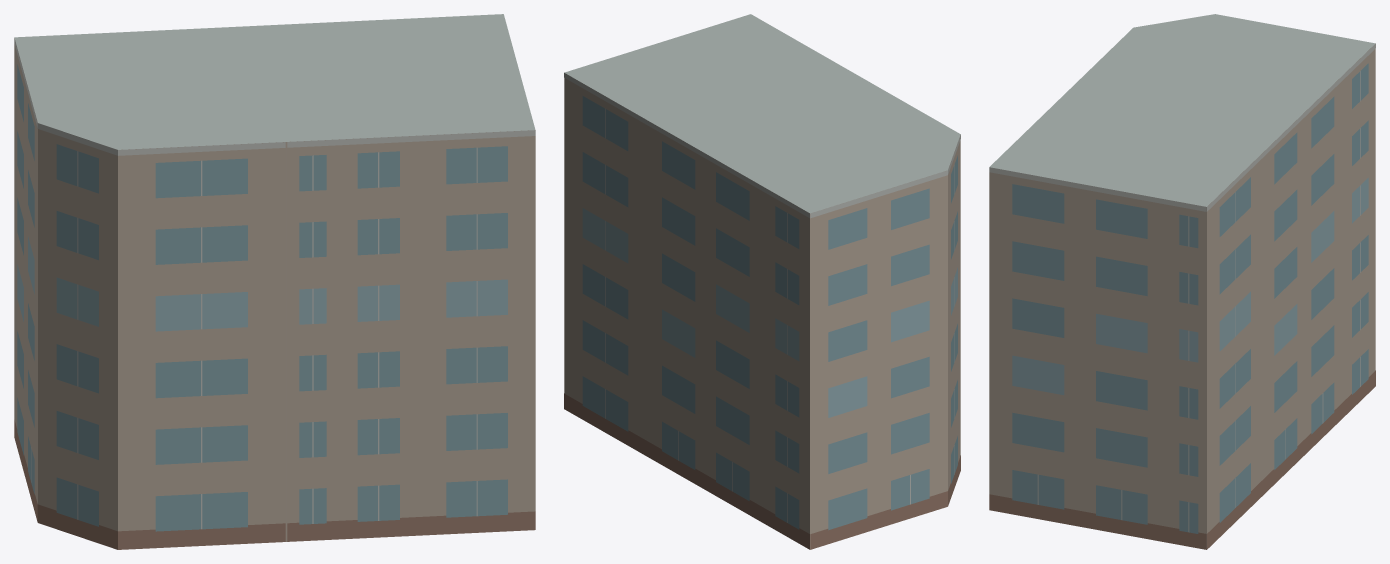
File: survey-upis-32890785.glb
3 renders of one model, left to right at view 1: azimuth 30°, elevation 25°; view 2: azimuth 150°, elevation 25°; view 3: azimuth 270°, elevation 25°, orthographic. The views are drawn at different scales.
Parts seen in each view (by area): view 1: survey-upis-32890785.tmp; view 2: survey-upis-32890785.tmp; view 3: survey-upis-32890785.tmp.
Boxes of the visible parts, box(x1,y1,x2,y2) form: survey-upis-32890785.tmp: box(14, 14, 535, 549); survey-upis-32890785.tmp: box(564, 14, 960, 549); survey-upis-32890785.tmp: box(989, 14, 1375, 549).
Bounding box in the file's own units: 20.04 × 16.6 × 16.96.
